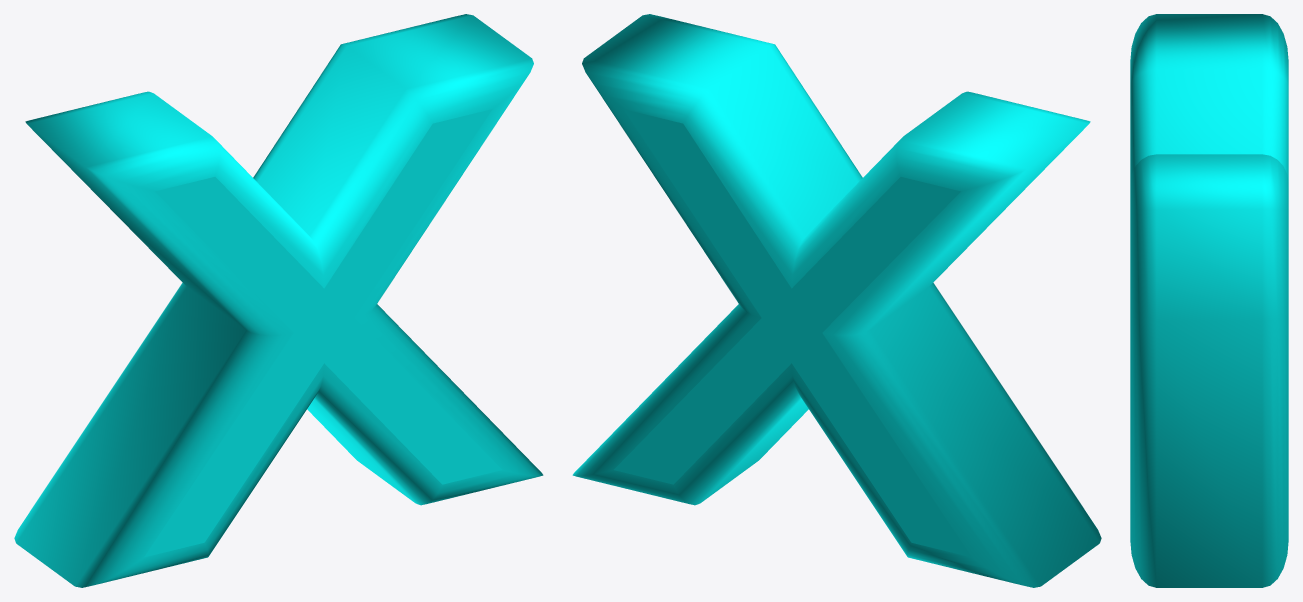
The picture shows the model from 3 angles, left to right: view 1: azimuth 30°, elevation 25°; view 2: azimuth 150°, elevation 25°; view 3: azimuth 270°, elevation 25°; orthographic projection. The views are drawn at different scales.
Parts seen in each view (by area): view 1: Text.001; view 2: Text.001; view 3: Text.001.
Part boxes in pixels (left/top/right/bottom): Text.001: left=14, top=14, right=543, bottom=587; Text.001: left=572, top=14, right=1101, bottom=587; Text.001: left=1130, top=14, right=1288, bottom=587.
Bounding box in the file's own units: 2.75 × 2.35 × 0.9.
